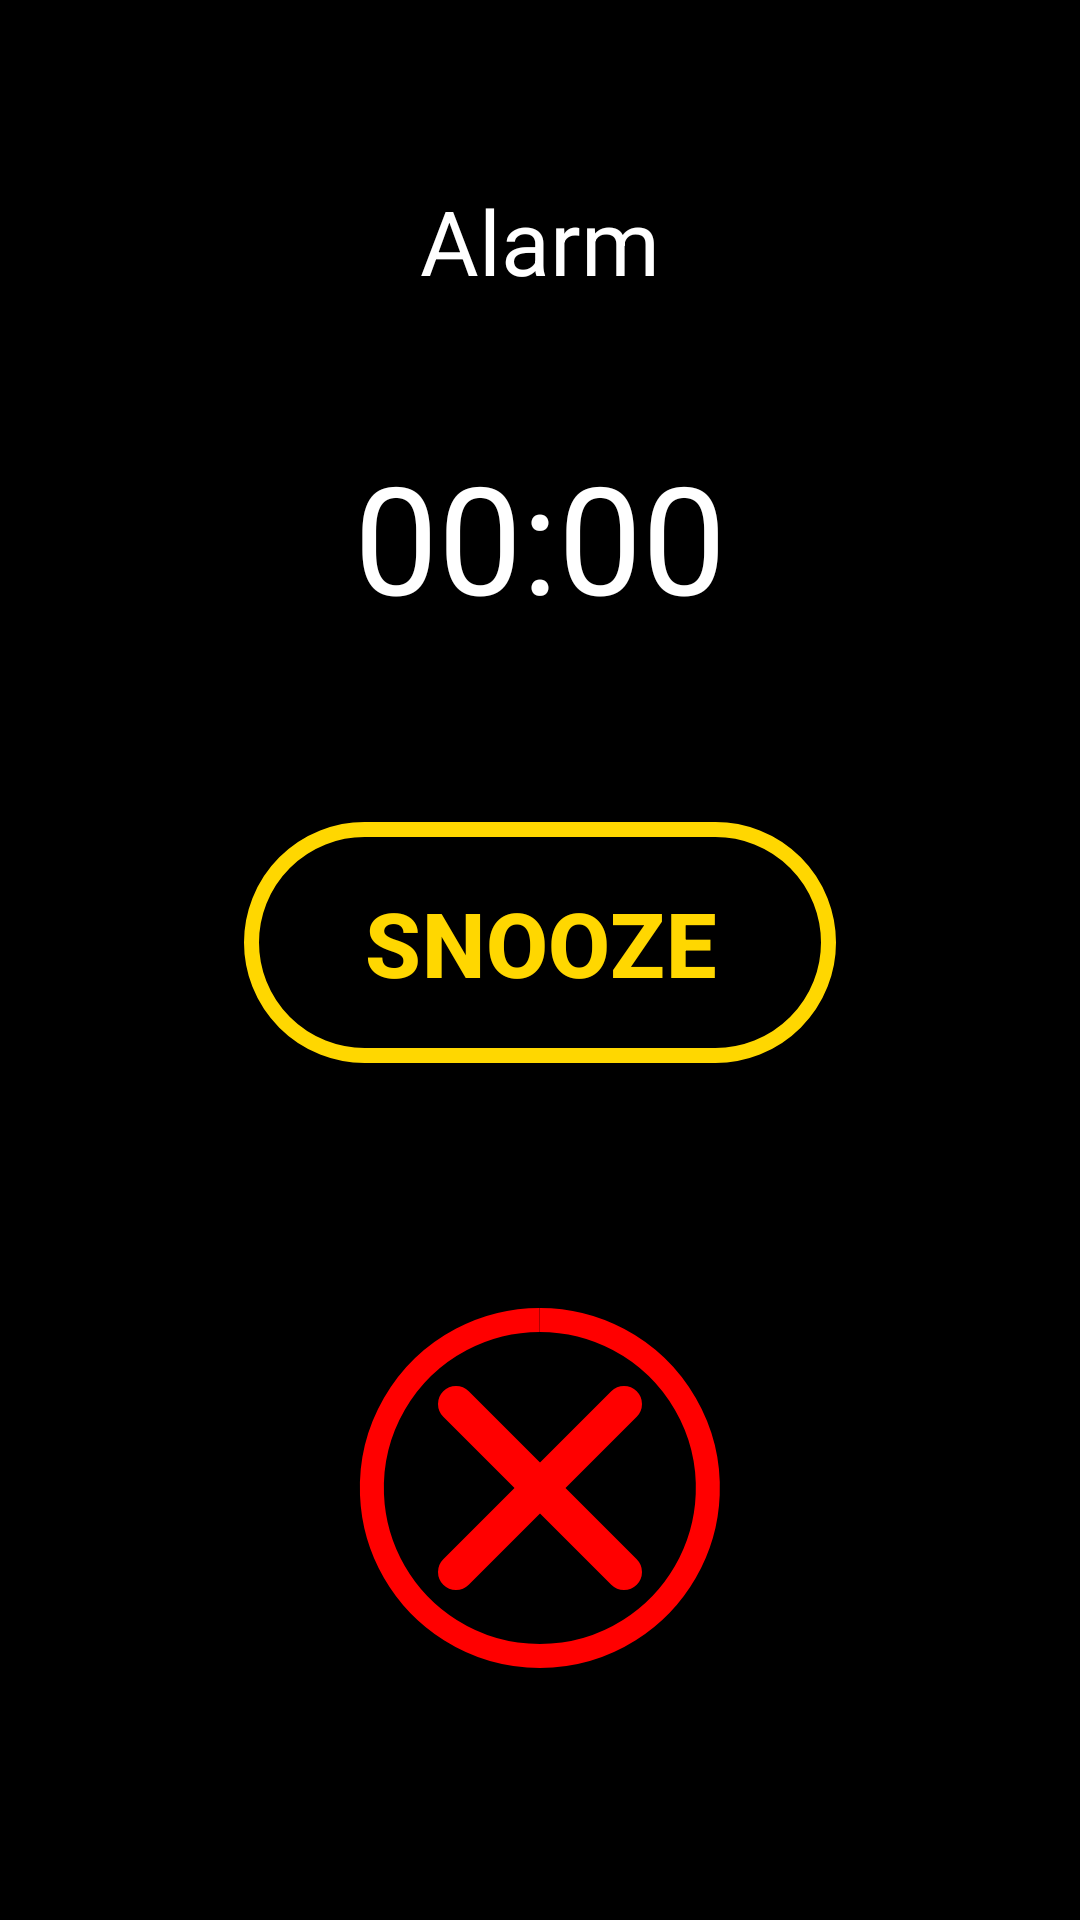

Named icons in this screenshot (1080*1920) and their centers, (x,y):
cross: (540,1488)
